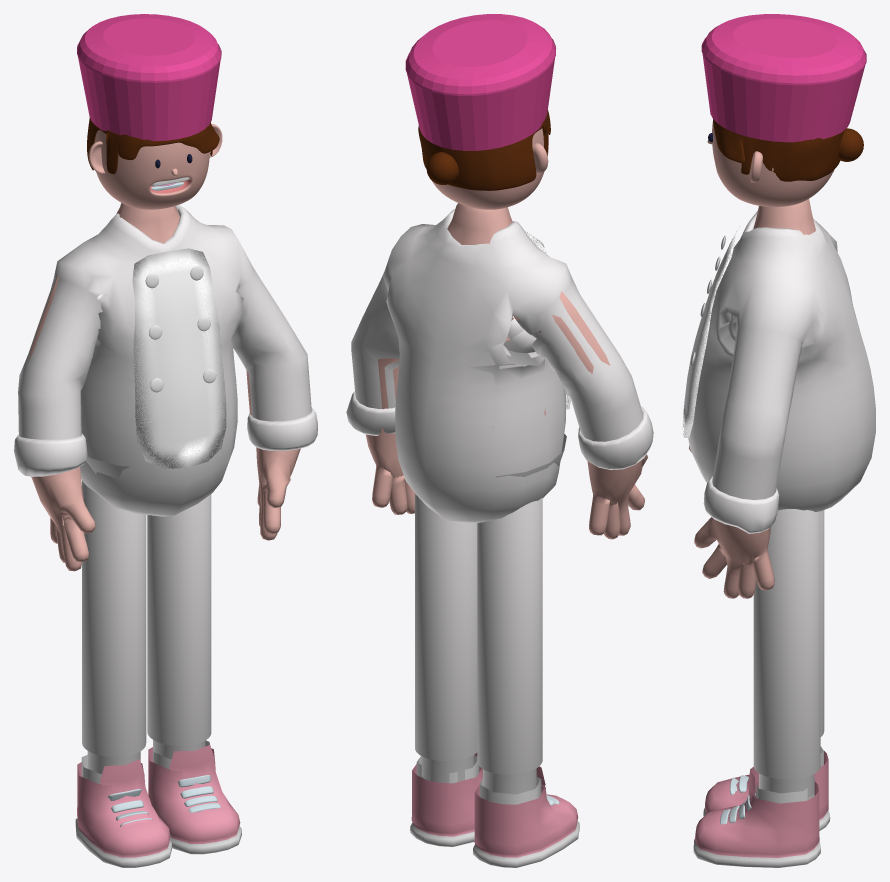
File: chef 1.glb
3 views of the same model, side by side, from view 1: azimuth 30°, elevation 25°; view 2: azimuth 150°, elevation 25°; view 3: azimuth 270°, elevation 25° (orthographic).
Parts seen in each view (by area): view 1: jeans, panza_Vert004, Cylinder001, Cylinder003, Cylinder002, body_backup_Vert001, Cube, head_Cube001, Cube003, hair_Cube007, Cube001, Cube_1 (+2 smaller); view 2: jeans, Cylinder001, Cylinder002, Cylinder003, body_backup_Vert001, Cube, hair_Cube007, Cube003, head_Cube001, Cube_1, Sphere005, Cube_2 (+1 smaller); view 3: jeans, Cylinder002, Cylinder003, Cube003, body_backup_Vert001, hair_Cube007, head_Cube001, panza_Vert004, Cube, Cube003_1, Cylinder001, Sphere005 (+1 smaller).
Part boxes in pixels (x1=…): jeans: x1=14, y1=205, x2=317, y2=516; panza_Vert004: x1=132, y1=248, x2=226, y2=468; Cylinder001: x1=82, y1=480, x2=146, y2=773; Cylinder003: x1=147, y1=494, x2=211, y2=759; Cylinder002: x1=77, y1=14, x2=221, y2=141; body_backup_Vert001: x1=29, y1=203, x2=300, y2=571; Cube: x1=77, y1=759, x2=170, y2=857; head_Cube001: x1=94, y1=130, x2=209, y2=209; Cube003: x1=148, y1=747, x2=240, y2=843; hair_Cube007: x1=87, y1=117, x2=219, y2=174; Cube001: x1=169, y1=745, x2=216, y2=812; Cube_1: x1=75, y1=818, x2=172, y2=867; jeans: x1=346, y1=209, x2=653, y2=523; Cylinder001: x1=477, y1=497, x2=542, y2=794; Cylinder002: x1=405, y1=14, x2=556, y2=150; Cylinder003: x1=415, y1=493, x2=477, y2=783; body_backup_Vert001: x1=366, y1=203, x2=647, y2=539; Cube: x1=474, y1=766, x2=578, y2=857; hair_Cube007: x1=418, y1=110, x2=550, y2=190; Cube003: x1=411, y1=764, x2=482, y2=836; head_Cube001: x1=432, y1=128, x2=548, y2=209; Cube_1: x1=473, y1=821, x2=579, y2=867; Sphere005: x1=426, y1=152, x2=458, y2=184; Cube_2: x1=479, y1=777, x2=541, y2=804; jeans: x1=688, y1=210, x2=875, y2=533; Cylinder002: x1=701, y1=14, x2=866, y2=142; Cylinder003: x1=753, y1=509, x2=820, y2=798; Cube003: x1=695, y1=779, x2=819, y2=857; body_backup_Vert001: x1=689, y1=199, x2=815, y2=598; hair_Cube007: x1=713, y1=119, x2=844, y2=181; head_Cube001: x1=712, y1=122, x2=834, y2=207; panza_Vert004: x1=682, y1=226, x2=739, y2=438; Cube: x1=705, y1=751, x2=828, y2=820; Cube003_1: x1=693, y1=839, x2=820, y2=867; Cylinder001: x1=820, y1=510, x2=824, y2=736; Sphere005: x1=838, y1=128, x2=863, y2=161.
Bounding box in the file's own units: 0.911 × 2.34 × 0.5126.
